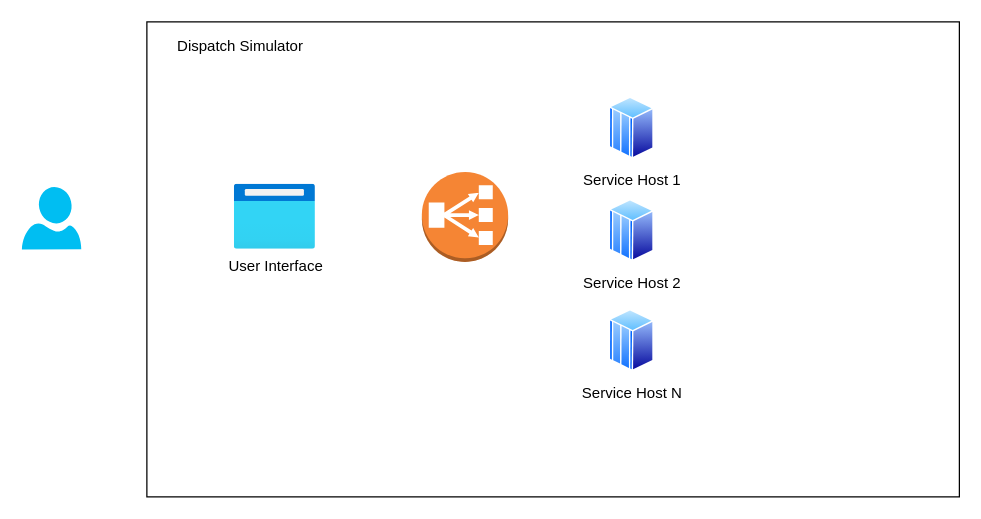
The diagram is 981 pixels wide and 519 high, and some of its shapes have lost their labels. The centre of each missing label's shape, as x and y in pixels:
"Load Balancer" belongs at point 464,216.
"Users" belongs at point 51,217.
